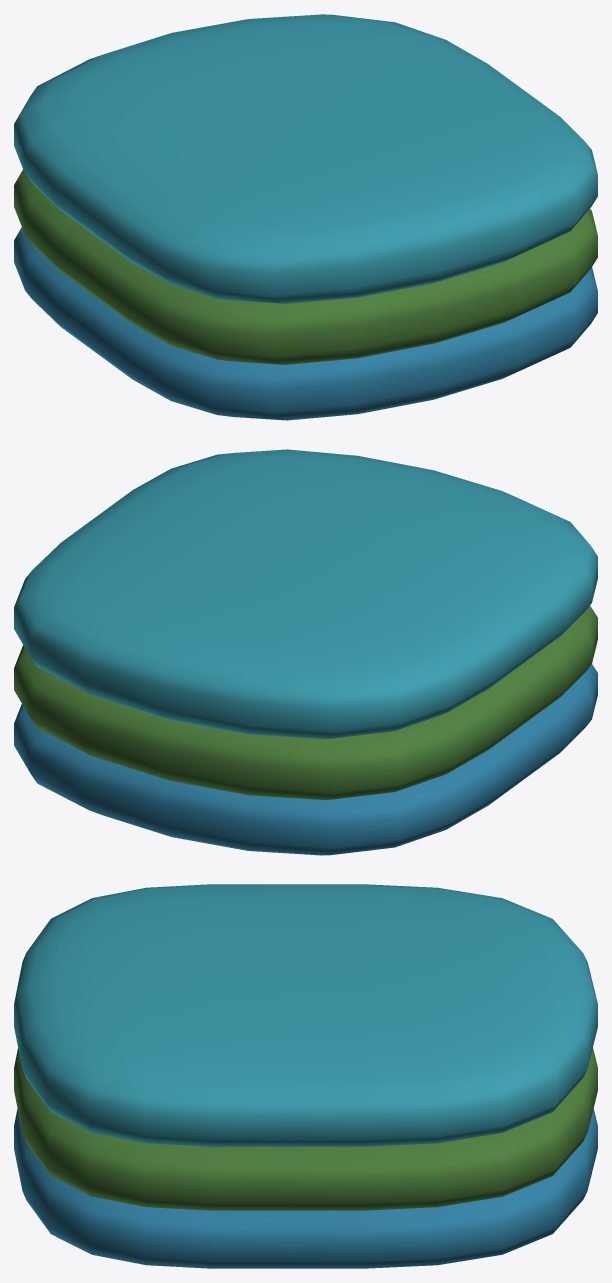
The model's file is NonIDealIsides.fbx.
The picture shows the model from 3 angles, top to bottom: view 1: azimuth 30°, elevation 25°; view 2: azimuth 150°, elevation 25°; view 3: azimuth 270°, elevation 25°; orthographic projection. The views are drawn at different scales.
Visible parts, largest first — view 1: NonIdealInners1_pCube3; view 2: NonIdealInners1_pCube3; view 3: NonIdealInners1_pCube3.
Boxes of the visible parts, x1=… form: NonIdealInners1_pCube3: x1=14, y1=14, x2=597, y2=420; NonIdealInners1_pCube3: x1=14, y1=449, x2=597, y2=855; NonIdealInners1_pCube3: x1=14, y1=884, x2=597, y2=1268.
Size of the model in its own units: 3.87 by 1.68 by 4.24.
Materials: 1 (1 with a texture image).
